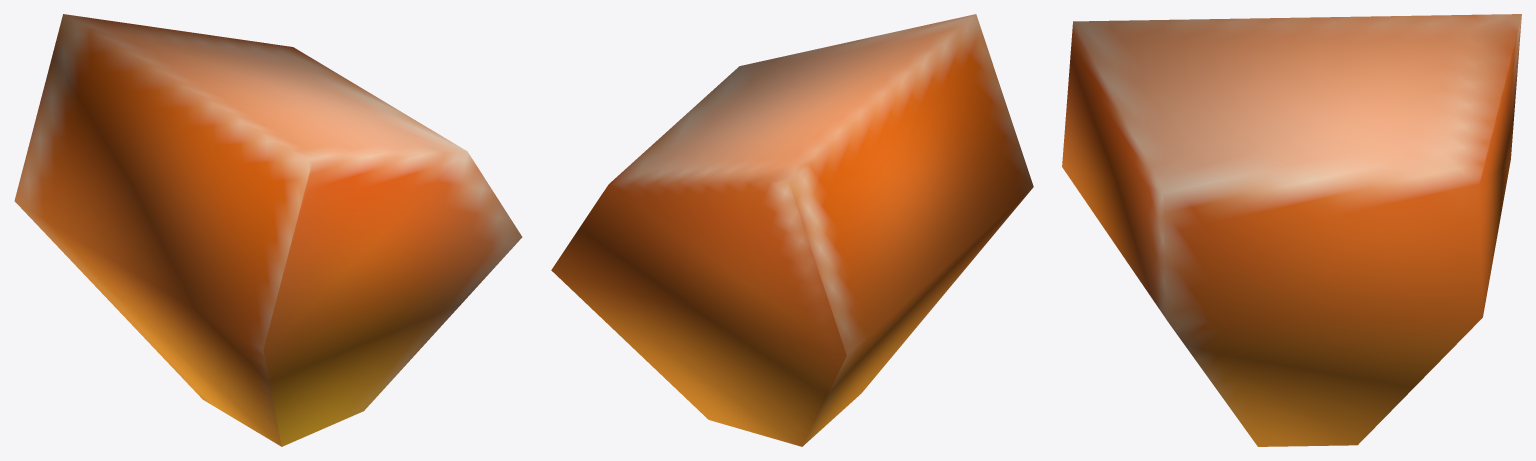
File: huyoubaoshi_03.FBX
3 renders of one model, left to right at view 1: azimuth 30°, elevation 25°; view 2: azimuth 150°, elevation 25°; view 3: azimuth 270°, elevation 25°, orthographic. The views are drawn at different scales.
Visible parts, largest first — view 1: huyoubaoshi_03; view 2: huyoubaoshi_03; view 3: huyoubaoshi_03.
Part boxes in pixels (<box>): huyoubaoshi_03: <box>14,14,522,446</box>; huyoubaoshi_03: <box>551,14,1033,446</box>; huyoubaoshi_03: <box>1062,14,1521,446</box>.
Size of the model in its own units: 51.85 by 51.28 by 60.
